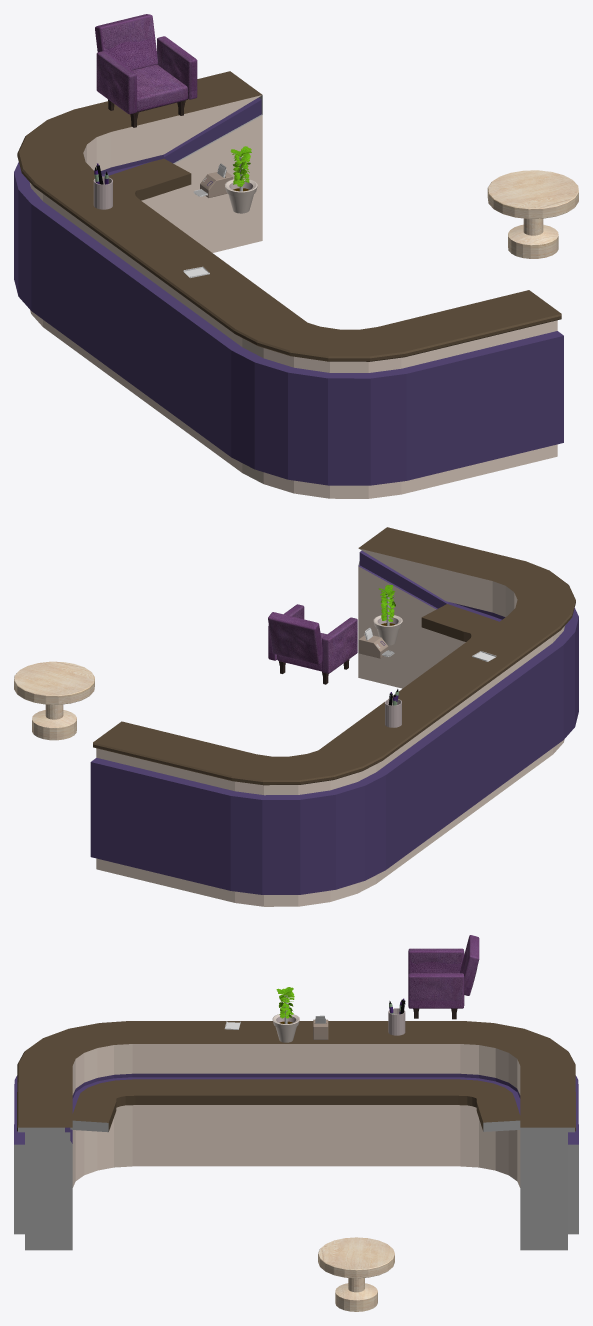
File: reception 1.fbx
3 views of the same model, one above another, from view 1: azimuth 30°, elevation 25°; view 2: azimuth 150°, elevation 25°; view 3: azimuth 270°, elevation 25° (orthographic). The views are drawn at different scales.
Visible parts, largest first — view 1: polySurface82, polySurface131, polySurface27, pCylinder10; view 2: polySurface82, polySurface27, polySurface131, pCylinder10, polySurface140; view 3: polySurface82, polySurface131, polySurface27, pCylinder10.
Boxes of the visible parts, left/top/right/bottom form: polySurface82: left=14, top=71, right=563, bottom=498; polySurface131: left=95, top=14, right=197, bottom=114; polySurface27: left=487, top=170, right=578, bottom=258; pCylinder10: left=225, top=178, right=257, bottom=213; polySurface82: left=90, top=527, right=578, bottom=906; polySurface27: left=14, top=661, right=94, bottom=740; polySurface131: left=268, top=604, right=357, bottom=673; pCylinder10: left=373, top=615, right=402, bottom=645; polySurface140: left=358, top=635, right=388, bottom=658; polySurface82: left=14, top=998, right=578, bottom=1250; polySurface131: left=408, top=935, right=479, bottom=1008; polySurface27: left=318, top=1237, right=394, bottom=1311; pCylinder10: left=272, top=1014, right=299, bottom=1042.
Bounding box in the file's own units: 11387 × 6426 × 13899.
